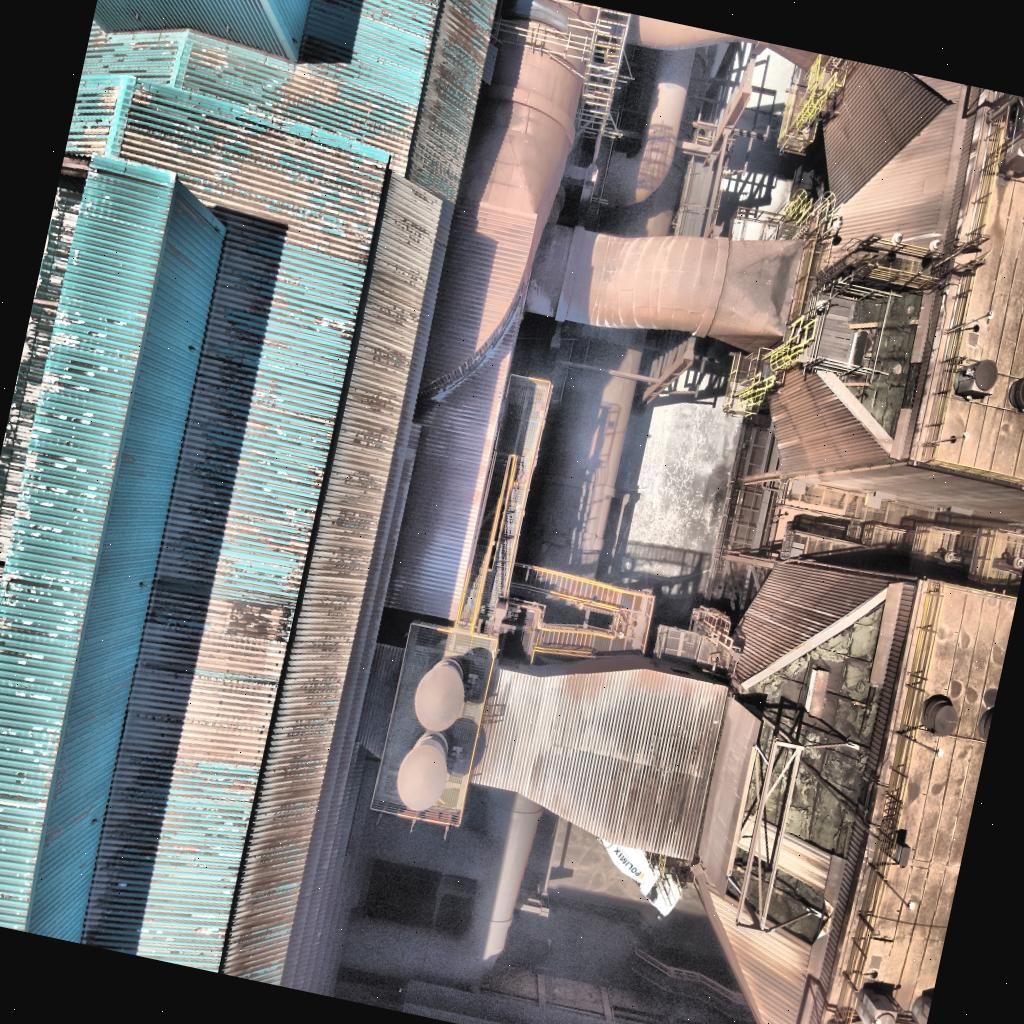Failures: (698, 568, 900, 951), (820, 280, 938, 446)
